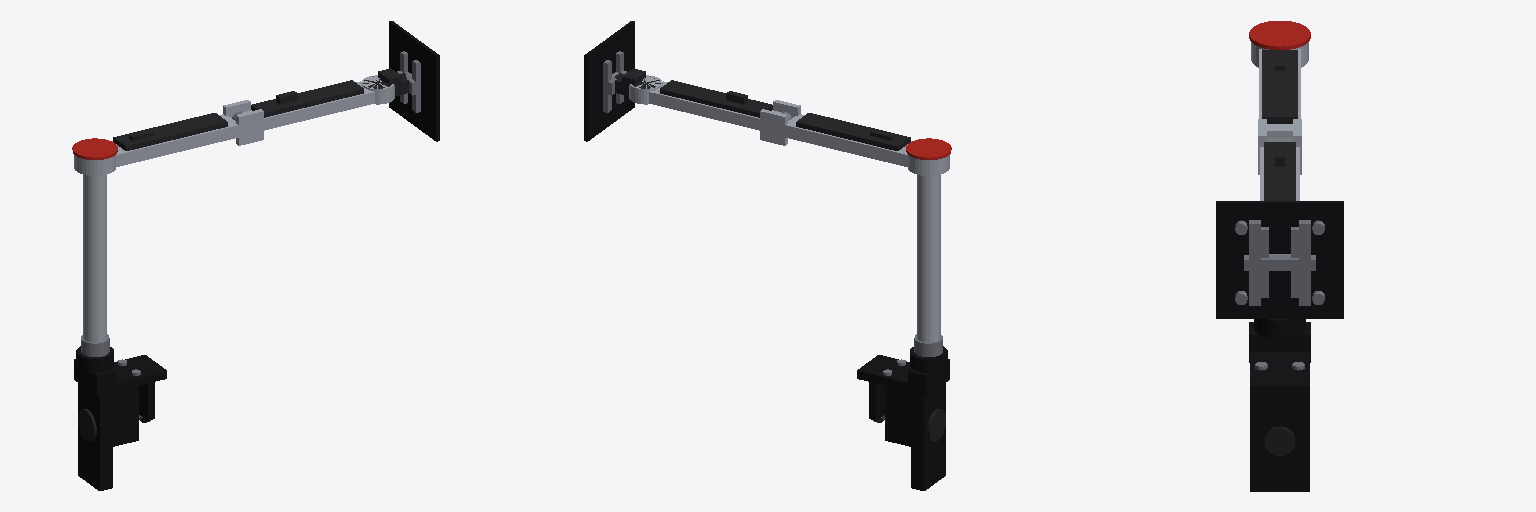
URDF robot description (monitor_mount):
<robot name="monitor_mount">
  <material name="powder_black">
    <color rgba="0.11 0.11 0.12 1" />
    </material>
  <material name="anodized_aluminum">
    <color rgba="0.67 0.69 0.73 1" />
    </material>
  <material name="satin_steel">
    <color rgba="0.49 0.5 0.53 1" />
    </material>
  <material name="polymer_dark">
    <color rgba="0.18 0.18 0.19 1" />
    </material>
  <material name="accent_red">
    <color rgba="0.72 0.18 0.15 1" />
    </material>
  <link name="desk_clamp">
    <inertial>
      <origin xyz="0.01 0 0.088" rpy="0 0 0" />
      <mass value="3.8" />
      <inertia ixx="0.0666979" ixy="0" ixz="0" iyy="0.0693896" iyz="0" izz="0.00497167" />
      </inertial>
    <visual>
      <origin xyz="0.015 0 0.006" rpy="0 0 0" />
      <geometry>
        <box size="0.1 0.058 0.012" />
        </geometry>
      <material name="powder_black" />
      </visual>
    <visual>
      <origin xyz="-0.028 0 0.015" rpy="0 0 0" />
      <geometry>
        <box size="0.03 0.06 0.03" />
        </geometry>
      <material name="powder_black" />
      </visual>
    <visual>
      <origin xyz="-0.005 0 -0.04" rpy="0 0 0" />
      <geometry>
        <box size="0.055 0.058 0.08" />
        </geometry>
      <material name="powder_black" />
      </visual>
    <visual>
      <origin xyz="-0.028 0 -0.055" rpy="0 0 0" />
      <geometry>
        <box size="0.02 0.058 0.17" />
        </geometry>
      <material name="powder_black" />
      </visual>
    <visual>
      <origin xyz="0.041 0 -0.024" rpy="0 0 0" />
      <geometry>
        <box size="0.012 0.058 0.06" />
        </geometry>
      <material name="powder_black" />
      </visual>
    <visual>
      <origin xyz="0.008 0 -0.055" rpy="0 1.5708 0" />
      <geometry>
        <cylinder radius="0.008" length="0.075" />
        </geometry>
      <material name="satin_steel" />
      </visual>
    <visual>
      <origin xyz="-0.036 0 -0.055" rpy="0 1.5708 0" />
      <geometry>
        <cylinder radius="0.022" length="0.012" />
        </geometry>
      <material name="polymer_dark" />
      </visual>
    <visual>
      <origin xyz="0.047 0 -0.055" rpy="0 1.5708 0" />
      <geometry>
        <cylinder radius="0.015" length="0.008" />
        </geometry>
      <material name="polymer_dark" />
      </visual>
    <visual>
      <origin xyz="-0.028 0 0.04" rpy="0 0 0" />
      <geometry>
        <cylinder radius="0.025" length="0.02" />
        </geometry>
      <material name="powder_black" />
      </visual>
    <visual>
      <origin xyz="-0.028 0 0.1775" rpy="0 0 0" />
      <geometry>
        <cylinder radius="0.016" length="0.275" />
        </geometry>
      <material name="anodized_aluminum" />
      </visual>
    <visual>
      <origin xyz="-0.028 0 0.055" rpy="0 0 0" />
      <geometry>
        <cylinder radius="0.019" length="0.03" />
        </geometry>
      <material name="satin_steel" />
      </visual>
    <visual>
      <origin xyz="0.024 0.018 0.012" rpy="0 0 0" />
      <geometry>
        <cylinder radius="0.006" length="0.008" />
        </geometry>
      <material name="satin_steel" />
      </visual>
    <visual>
      <origin xyz="0.024 -0.018 0.012" rpy="0 0 0" />
      <geometry>
        <cylinder radius="0.006" length="0.008" />
        </geometry>
      <material name="satin_steel" />
      </visual>
    </link>
  <link name="lower_arm">
    <inertial>
      <origin xyz="0.122 0 0.016" rpy="0 0 0" />
      <mass value="1.2" />
      <inertia ixx="0.0003181" ixy="0" ixz="0" iyy="0.0061181" iyz="0" izz="0.006205" />
      </inertial>
    <visual>
      <origin xyz="0 0 0.012" rpy="0 0 0" />
      <geometry>
        <cylinder radius="0.028" length="0.024" />
        </geometry>
      <material name="anodized_aluminum" />
      </visual>
    <visual>
      <origin xyz="0 0 0.026" rpy="0 0 0" />
      <geometry>
        <cylinder radius="0.03" length="0.004" />
        </geometry>
      <material name="accent_red" />
      </visual>
    <visual>
      <origin xyz="0.115 0 0.012" rpy="0 0 0" />
      <geometry>
        <box size="0.19 0.04 0.018" />
        </geometry>
      <material name="anodized_aluminum" />
      </visual>
    <visual>
      <origin xyz="0.115 0 0.0245" rpy="0 0 0" />
      <geometry>
        <box size="0.155 0.034 0.007" />
        </geometry>
      <material name="polymer_dark" />
      </visual>
    <visual>
      <origin xyz="0.115 0 0.0045" rpy="0 0 0" />
      <geometry>
        <box size="0.12 0.022 0.006" />
        </geometry>
      <material name="satin_steel" />
      </visual>
    <visual>
      <origin xyz="0.226 0.017 0.012" rpy="0 0 0" />
      <geometry>
        <box size="0.038 0.008 0.042" />
        </geometry>
      <material name="anodized_aluminum" />
      </visual>
    <visual>
      <origin xyz="0.226 -0.017 0.012" rpy="0 0 0" />
      <geometry>
        <box size="0.038 0.008 0.042" />
        </geometry>
      <material name="anodized_aluminum" />
      </visual>
    <visual>
      <origin xyz="0.226 0 0.012" rpy="1.5708 0 0" />
      <geometry>
        <cylinder radius="0.011" length="0.034" />
        </geometry>
      <material name="satin_steel" />
      </visual>
    <visual>
      <origin xyz="0.07 0 0.028" rpy="0 0 0" />
      <geometry>
        <box size="0.032 0.01 0.01" />
        </geometry>
      <material name="polymer_dark" />
      </visual>
    </link>
  <link name="upper_arm">
    <inertial>
      <origin xyz="0.108 0 0.002" rpy="0 0 0" />
      <mass value="1" />
      <inertia ixx="0.000222" ixy="0" ixz="0" iyy="0.004407" iyz="0" izz="0.004479" />
      </inertial>
    <visual>
      <origin xyz="0 0 0" rpy="1.5708 0 0" />
      <geometry>
        <cylinder radius="0.0105" length="0.026" />
        </geometry>
      <material name="satin_steel" />
      </visual>
    <visual>
      <origin xyz="0.0975 0 0" rpy="0 0 0" />
      <geometry>
        <box size="0.185 0.038 0.017" />
        </geometry>
      <material name="anodized_aluminum" />
      </visual>
    <visual>
      <origin xyz="0.0975 0 0.0115" rpy="0 0 0" />
      <geometry>
        <box size="0.155 0.032 0.007" />
        </geometry>
      <material name="polymer_dark" />
      </visual>
    <visual>
      <origin xyz="0.095 0 -0.008" rpy="0 0 0" />
      <geometry>
        <box size="0.1 0.02 0.005" />
        </geometry>
      <material name="satin_steel" />
      </visual>
    <visual>
      <origin xyz="0.188 0 0" rpy="0 0 0" />
      <geometry>
        <box size="0.03 0.024 0.018" />
        </geometry>
      <material name="anodized_aluminum" />
      </visual>
    <visual>
      <origin xyz="0.205 0 0" rpy="0 0 0" />
      <geometry>
        <cylinder radius="0.022" length="0.022" />
        </geometry>
      <material name="anodized_aluminum" />
      </visual>
    <visual>
      <origin xyz="0.066 0 0.021" rpy="0 0 0" />
      <geometry>
        <box size="0.028 0.01 0.01" />
        </geometry>
      <material name="polymer_dark" />
      </visual>
    </link>
  <link name="head">
    <inertial>
      <origin xyz="0.024 0 0" rpy="0 0 0" />
      <mass value="0.45" />
      <inertia ixx="0.000286875" ixy="0" ixz="0" iyy="0.000475538" iyz="0" izz="0.000340538" />
      </inertial>
    <visual>
      <geometry>
        <cylinder radius="0.02" length="0.022" />
        </geometry>
      <material name="polymer_dark" />
      </visual>
    <visual>
      <origin xyz="0.026 0 0" rpy="0 0 0" />
      <geometry>
        <box size="0.042 0.024 0.018" />
        </geometry>
      <material name="polymer_dark" />
      </visual>
    <visual>
      <origin xyz="0.046 0 0" rpy="0 0 0" />
      <geometry>
        <box size="0.012 0.042 0.018" />
        </geometry>
      <material name="satin_steel" />
      </visual>
    <visual>
      <origin xyz="0.055 0.016 0" rpy="0 0 0" />
      <geometry>
        <box size="0.018 0.01 0.072" />
        </geometry>
      <material name="satin_steel" />
      </visual>
    <visual>
      <origin xyz="0.055 -0.016 0" rpy="0 0 0" />
      <geometry>
        <box size="0.018 0.01 0.072" />
        </geometry>
      <material name="satin_steel" />
      </visual>
    <visual>
      <origin xyz="0.018 0 0.014" rpy="0 0 0" />
      <geometry>
        <box size="0.02 0.03 0.01" />
        </geometry>
      <material name="polymer_dark" />
      </visual>
    </link>
  <link name="vesa_plate">
    <inertial>
      <origin xyz="0.002 0 0" rpy="0 0 0" />
      <mass value="0.55" />
      <inertia ixx="0.00143229" ixy="0" ixz="0" iyy="0.000738329" iyz="0" izz="0.000738329" />
      </inertial>
    <visual>
      <geometry>
        <box size="0.005 0.125 0.125" />
        </geometry>
      <material name="powder_black" />
      </visual>
    <visual>
      <origin xyz="-0.004 0 0" rpy="1.5708 0 0" />
      <geometry>
        <cylinder radius="0.01" length="0.034" />
        </geometry>
      <material name="satin_steel" />
      </visual>
    <visual>
      <origin xyz="0.006 0 0" rpy="0 0 0" />
      <geometry>
        <box size="0.012 0.07 0.012" />
        </geometry>
      <material name="satin_steel" />
      </visual>
    <visual>
      <origin xyz="0.006 0.024 0" rpy="0 0 0" />
      <geometry>
        <box size="0.012 0.012 0.088" />
        </geometry>
      <material name="satin_steel" />
      </visual>
    <visual>
      <origin xyz="0.006 -0.024 0" rpy="0 0 0" />
      <geometry>
        <box size="0.012 0.012 0.088" />
        </geometry>
      <material name="satin_steel" />
      </visual>
    <visual>
      <origin xyz="0.006 -0.0375 -0.0375" rpy="0 1.5708 0" />
      <geometry>
        <cylinder radius="0.006" length="0.01" />
        </geometry>
      <material name="satin_steel" />
      </visual>
    <visual>
      <origin xyz="0.006 -0.0375 0.0375" rpy="0 1.5708 0" />
      <geometry>
        <cylinder radius="0.006" length="0.01" />
        </geometry>
      <material name="satin_steel" />
      </visual>
    <visual>
      <origin xyz="0.006 0.0375 -0.0375" rpy="0 1.5708 0" />
      <geometry>
        <cylinder radius="0.006" length="0.01" />
        </geometry>
      <material name="satin_steel" />
      </visual>
    <visual>
      <origin xyz="0.006 0.0375 0.0375" rpy="0 1.5708 0" />
      <geometry>
        <cylinder radius="0.006" length="0.01" />
        </geometry>
      <material name="satin_steel" />
      </visual>
    </link>
  <joint name="base_to_lower_swivel" type="revolute">
    <origin xyz="-0.028 0 0.318" rpy="0 0 0" />
    <parent link="desk_clamp" />
    <child link="lower_arm" />
    <axis xyz="0 0 1" />
    <limit effort="60" velocity="2" lower="-2.4" upper="2.4" />
    </joint>
  <joint name="lower_to_upper_elbow" type="revolute">
    <origin xyz="0.226 0 0.012" rpy="0 0 0" />
    <parent link="lower_arm" />
    <child link="upper_arm" />
    <axis xyz="0 -1 0" />
    <limit effort="45" velocity="2" lower="0" upper="1.35" />
    </joint>
  <joint name="upper_to_head_yaw" type="revolute">
    <origin xyz="0.205 0 0" rpy="0 0 0" />
    <parent link="upper_arm" />
    <child link="head" />
    <axis xyz="0 0 1" />
    <limit effort="18" velocity="2.5" lower="-1.6" upper="1.6" />
    </joint>
  <joint name="head_to_vesa_tilt" type="revolute">
    <origin xyz="0.055 0 0" rpy="0 0 0" />
    <parent link="head" />
    <child link="vesa_plate" />
    <axis xyz="0 1 0" />
    <limit effort="18" velocity="2.5" lower="-0.65" upper="0.9" />
    </joint>
  </robot>

--- Render facts (derived) ---
Views: 3 orthographic renders of the robot side by side, from view 1: azimuth 30°, elevation 25°; view 2: azimuth 150°, elevation 25°; view 3: azimuth 270°, elevation 25°.
Robot: monitor_mount — 5 links, 4 joints (4 revolute); root link desk_clamp; default pose: all joints at 0.
Links seen in each view (by area): view 1: desk_clamp, lower_arm, upper_arm, vesa_plate, head; view 2: desk_clamp, lower_arm, upper_arm, vesa_plate, head; view 3: vesa_plate, desk_clamp, lower_arm, upper_arm, head.
Link boxes in pixels (left/top/right/bottom): desk_clamp: left=74, top=175, right=166, bottom=490; lower_arm: left=72, top=100, right=263, bottom=175; upper_arm: left=243, top=75, right=394, bottom=130; vesa_plate: left=389, top=21, right=439, bottom=141; head: left=363, top=51, right=420, bottom=112; desk_clamp: left=857, top=175, right=949, bottom=490; lower_arm: left=760, top=100, right=951, bottom=175; upper_arm: left=629, top=75, right=780, bottom=130; vesa_plate: left=584, top=21, right=634, bottom=141; head: left=603, top=51, right=660, bottom=112; vesa_plate: left=1216, top=201, right=1343, bottom=318; desk_clamp: left=1249, top=319, right=1310, bottom=491; lower_arm: left=1249, top=21, right=1310, bottom=174; upper_arm: left=1260, top=142, right=1299, bottom=200; head: left=1261, top=227, right=1298, bottom=297.
Size in the robot's own frame: 0.528 by 0.125 by 0.5325 metres.
Geometry: primitives only (box / cylinder / sphere), no mesh files.
